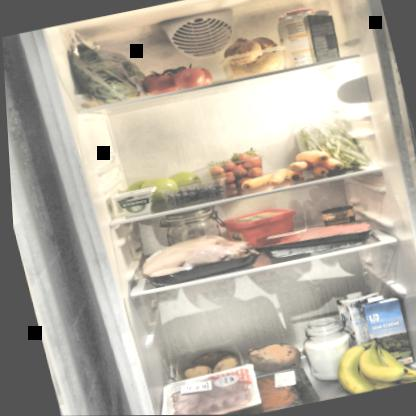apple: (122, 164, 204, 209)
banana: (324, 328, 415, 397)
beef: (241, 368, 302, 414)
blueberries: (160, 178, 224, 209)
butter: (215, 203, 300, 253)
carrot: (279, 144, 349, 185), (233, 169, 286, 194)
chicken: (127, 221, 268, 293)
corn: (313, 202, 360, 238)
green_beans: (282, 103, 373, 186)
ground_beef: (262, 215, 374, 260)
heavy_cream: (303, 6, 345, 67)
milk: (351, 290, 416, 375), (331, 288, 384, 362)
onion: (216, 29, 285, 78)
potato: (169, 343, 242, 386)
spinach: (55, 15, 157, 113)
strawberries: (203, 148, 262, 189)
sweet_potato: (236, 334, 304, 378)
tomato: (131, 55, 221, 100)
